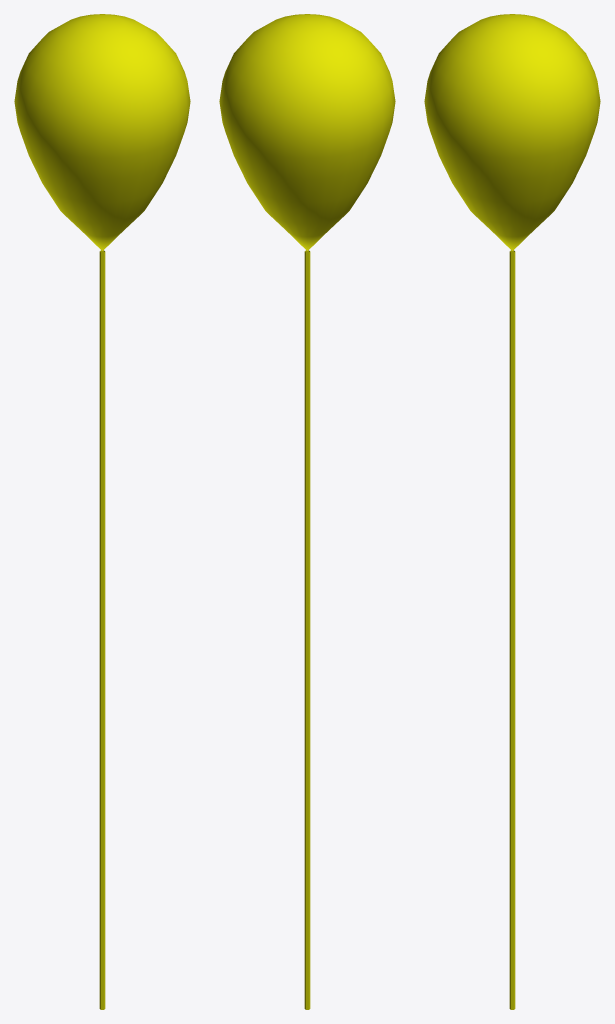
File: Balloon5m.dae
3 views of the same model, side by side, from view 1: azimuth 30°, elevation 25°; view 2: azimuth 150°, elevation 25°; view 3: azimuth 270°, elevation 25° (orthographic).
Parts seen in each view (by area): view 1: Balloon4m; view 2: Balloon4m; view 3: Balloon4m.
Boxes of the visible parts, left/top/right/bottom form: Balloon4m: left=14, top=14, right=190, bottom=1009; Balloon4m: left=219, top=14, right=395, bottom=1009; Balloon4m: left=424, top=14, right=600, bottom=1009.
Bounding box in the file's own units: 0.632 × 0.632 × 3.91.
